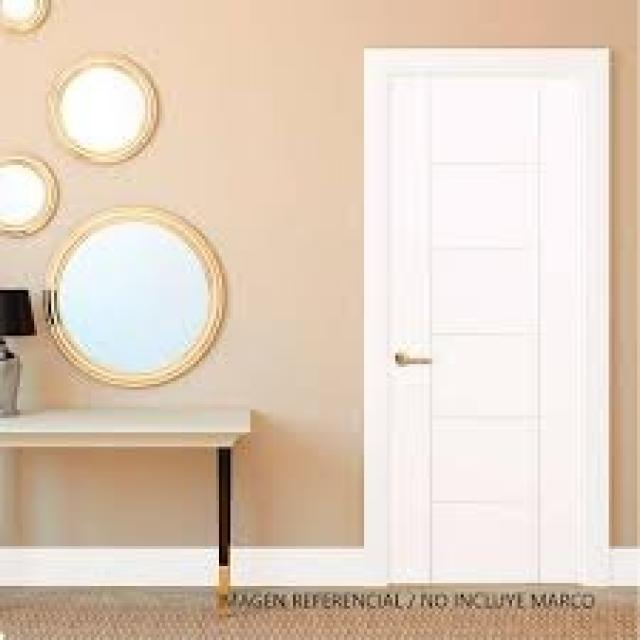door: (366, 47, 610, 584)
